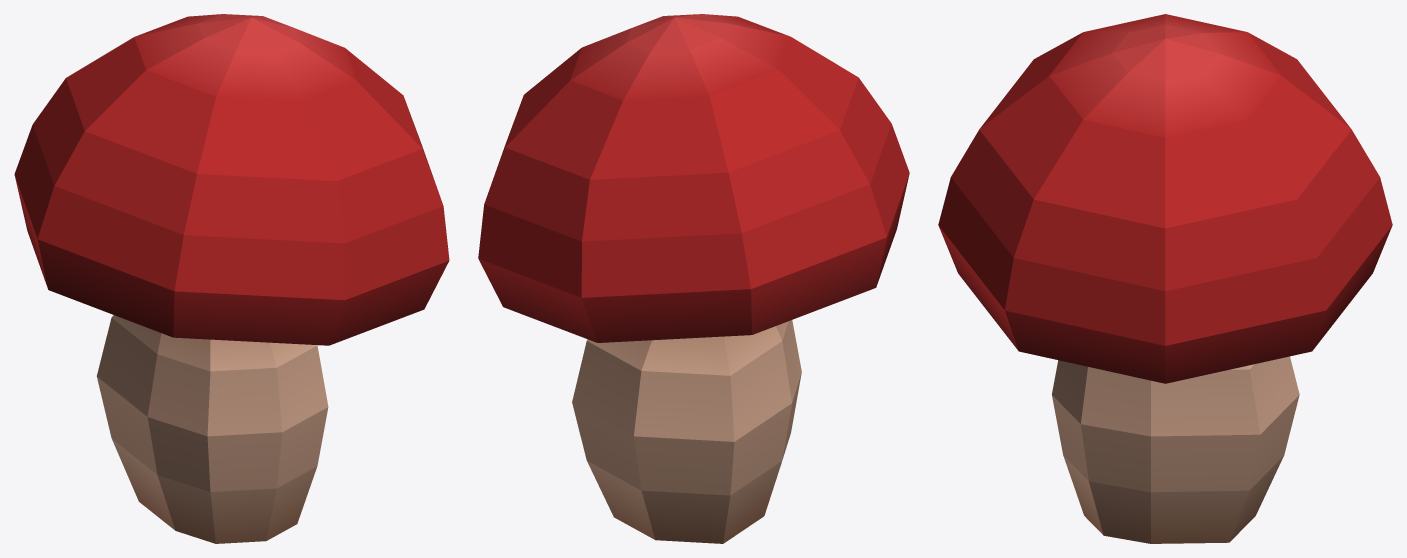
File: Mushroom 5.fbx
3 renders of one model, left to right at view 1: azimuth 30°, elevation 25°; view 2: azimuth 150°, elevation 25°; view 3: azimuth 270°, elevation 25°, orthographic.
Parts seen in each view (by area): view 1: Mushroom 3; view 2: Mushroom 3; view 3: Mushroom 3.
Part boxes in pixels (box(x1,y1,x2,y2)): Mushroom 3: box(14, 14, 449, 543); Mushroom 3: box(478, 14, 909, 543); Mushroom 3: box(938, 14, 1392, 543).
Size of the model in its own units: 163 by 195 by 164.
